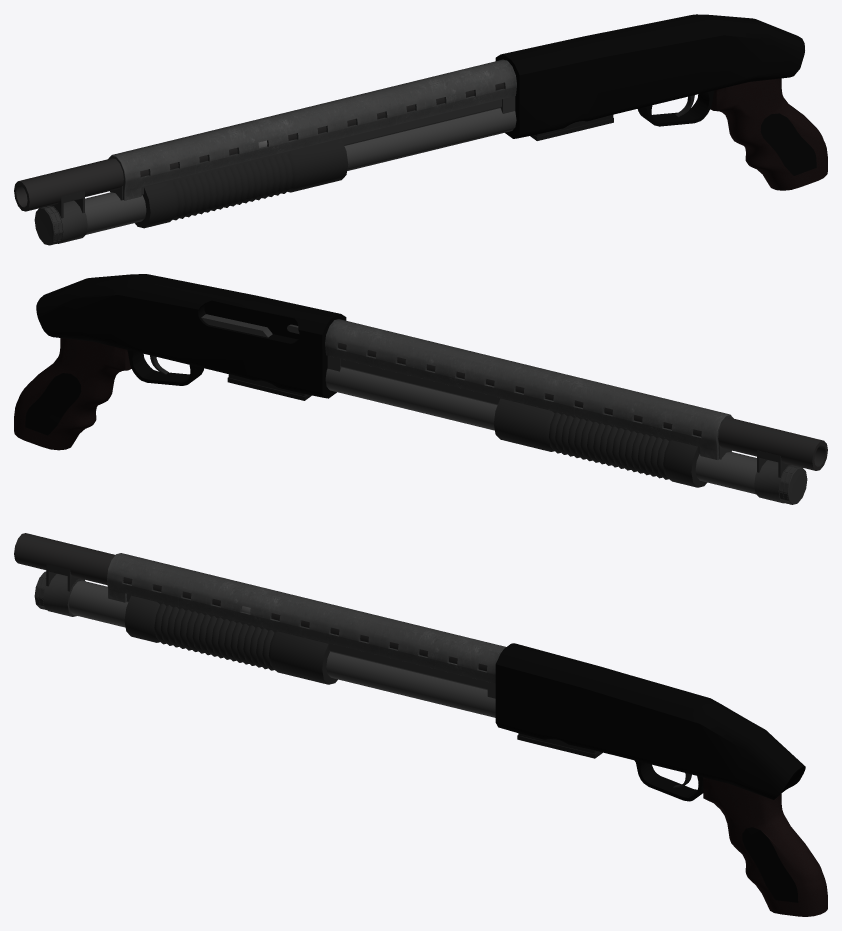
File: tactical_pump-action_shotgun__game_ready_4k_pbr.glb
3 renders of one model, top to bottom at view 1: azimuth 30°, elevation 25°; view 2: azimuth 150°, elevation 25°; view 3: azimuth 330°, elevation 25°, orthographic.
Parts seen in each view (by area): view 1: MainBody, Fore-end; view 2: MainBody, Fore-end; view 3: MainBody, Fore-end.
Part boxes in pixels (x1=…): MainBody: x1=14, y1=14, x2=827, y2=245; Fore-end: x1=135, y1=139, x2=348, y2=228; MainBody: x1=14, y1=274, x2=827, y2=504; Fore-end: x1=493, y1=398, x2=707, y2=487; MainBody: x1=14, y1=533, x2=827, y2=916; Fore-end: x1=124, y1=595, x2=337, y2=684.
Size of the model in its own units: 0.7275 by 0.1686 by 0.0409.
Materials: 1 (1 with a texture image).
